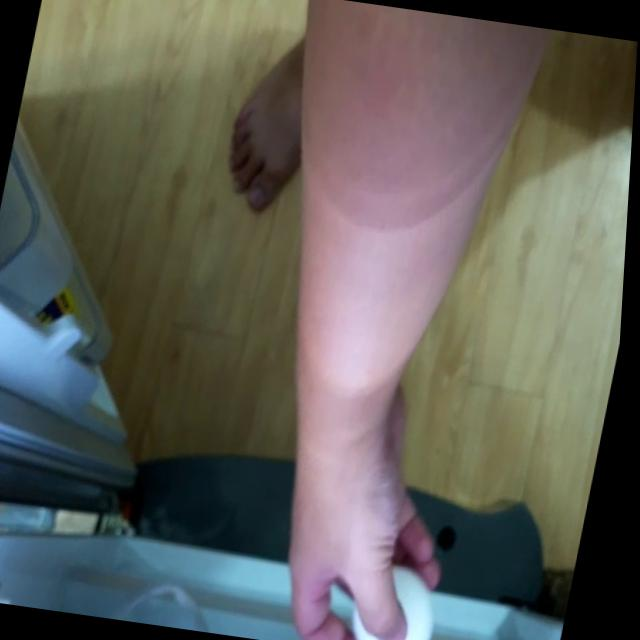egg: (357, 559, 449, 640)
